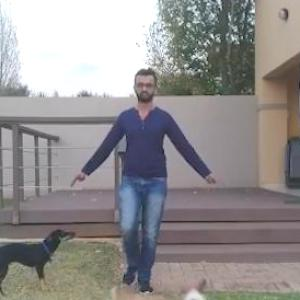land: (77, 79, 216, 298)
